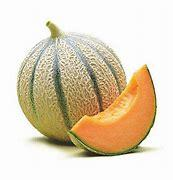Melon Ripe: (71, 63, 158, 155)
